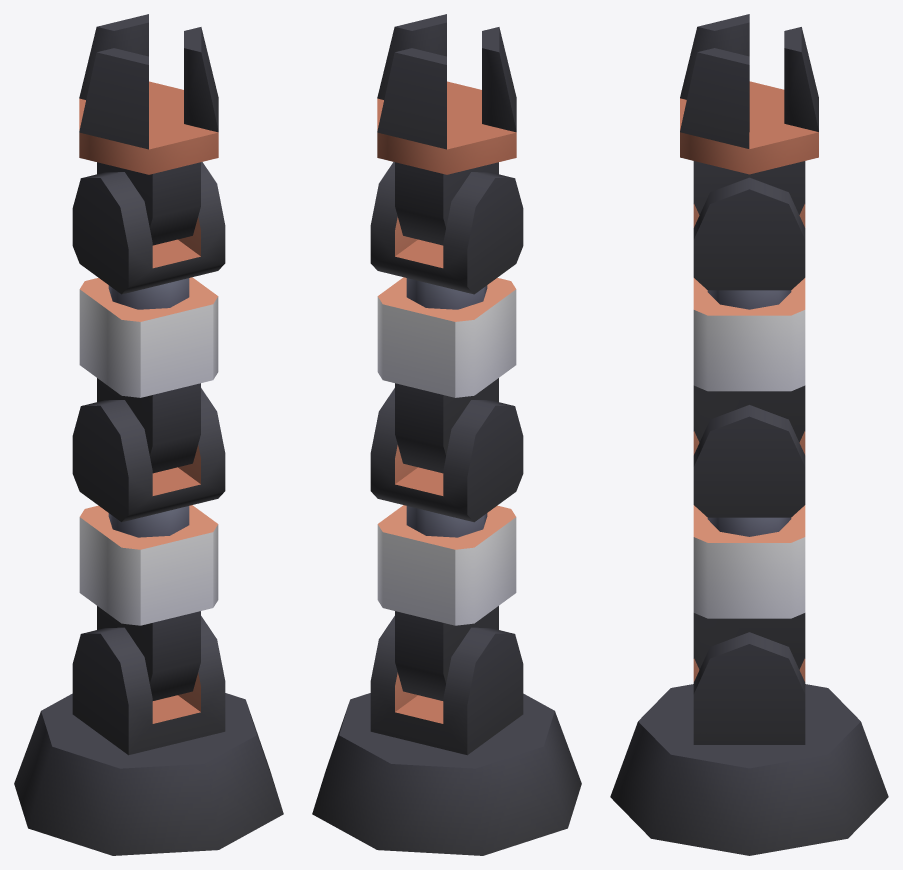
The model's file is robot-arm-b.obj.
3 views of the same model, side by side, from view 1: azimuth 30°, elevation 25°; view 2: azimuth 150°, elevation 25°; view 3: azimuth 270°, elevation 25° (orthographic).
Visible parts, largest first — view 1: robot-arm-b, element-f, element-b, element-d, element-a, element-e, element-c; view 2: robot-arm-b, element-f, element-b, element-d, element-a, element-e, element-c; view 3: robot-arm-b, element-f, element-b, element-d, element-a, element-e, element-c.
Part boxes in pixels (x1,y1,x2,y2): robot-arm-b: (14, 693, 283, 855); element-f: (79, 14, 218, 245); element-b: (79, 505, 218, 700); element-d: (79, 277, 218, 473); element-a: (72, 616, 225, 755); element-e: (72, 162, 225, 294); element-c: (72, 388, 225, 522); robot-arm-b: (312, 693, 581, 855); element-f: (377, 14, 516, 245); element-b: (377, 505, 516, 700); element-d: (377, 277, 516, 473); element-a: (370, 616, 523, 755); element-e: (370, 162, 523, 294); element-c: (370, 388, 523, 522); robot-arm-b: (610, 684, 888, 855); element-f: (680, 14, 818, 214); element-b: (693, 505, 805, 669); element-d: (693, 278, 805, 442); element-a: (693, 632, 805, 744); element-e: (693, 177, 805, 290); element-c: (693, 405, 805, 517).
Bounding box in the file's own units: 1 × 3 × 1.
